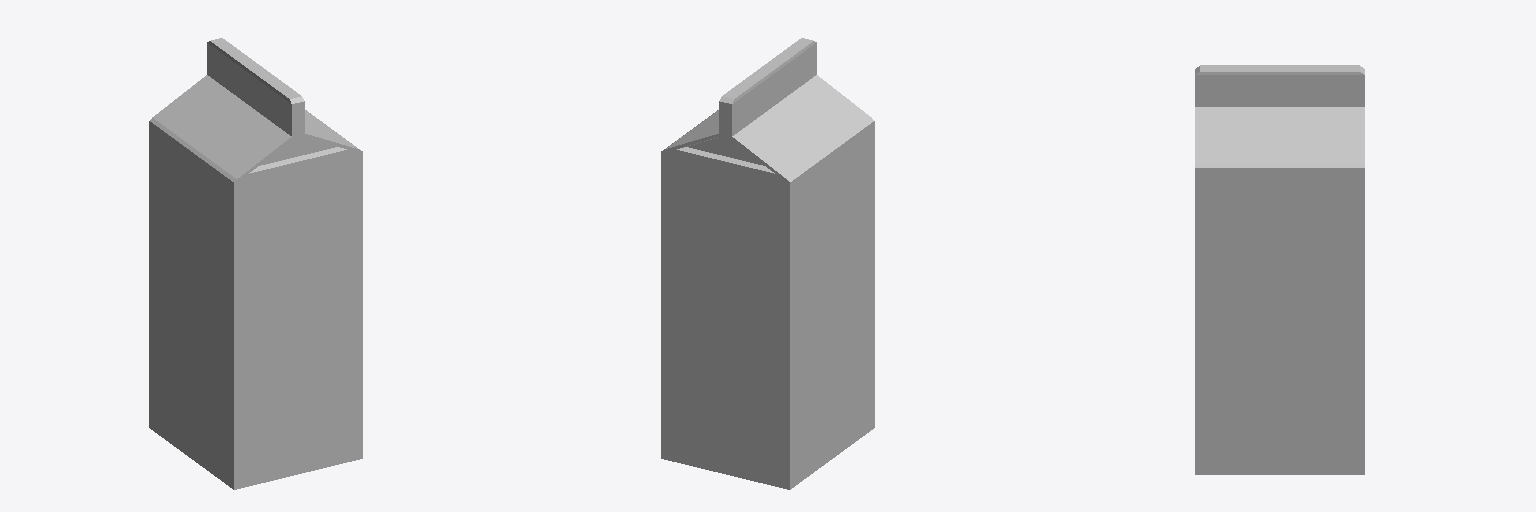
Rendered from Milk.obj.
The picture shows the model from 3 angles: view 1: azimuth 30°, elevation 25°; view 2: azimuth 150°, elevation 25°; view 3: azimuth 270°, elevation 25°; orthographic projection.
Parts seen in each view (by area): view 1: Milk_Cube.001; view 2: Milk_Cube.001; view 3: Milk_Cube.001.
Boxes of the visible parts, x1=… form: Milk_Cube.001: x1=149, y1=38, x2=362, y2=489; Milk_Cube.001: x1=661, y1=38, x2=874, y2=489; Milk_Cube.001: x1=1195, y1=65, x2=1364, y2=474.
Size of the model in its own units: 9.8 by 27.35 by 11.19.